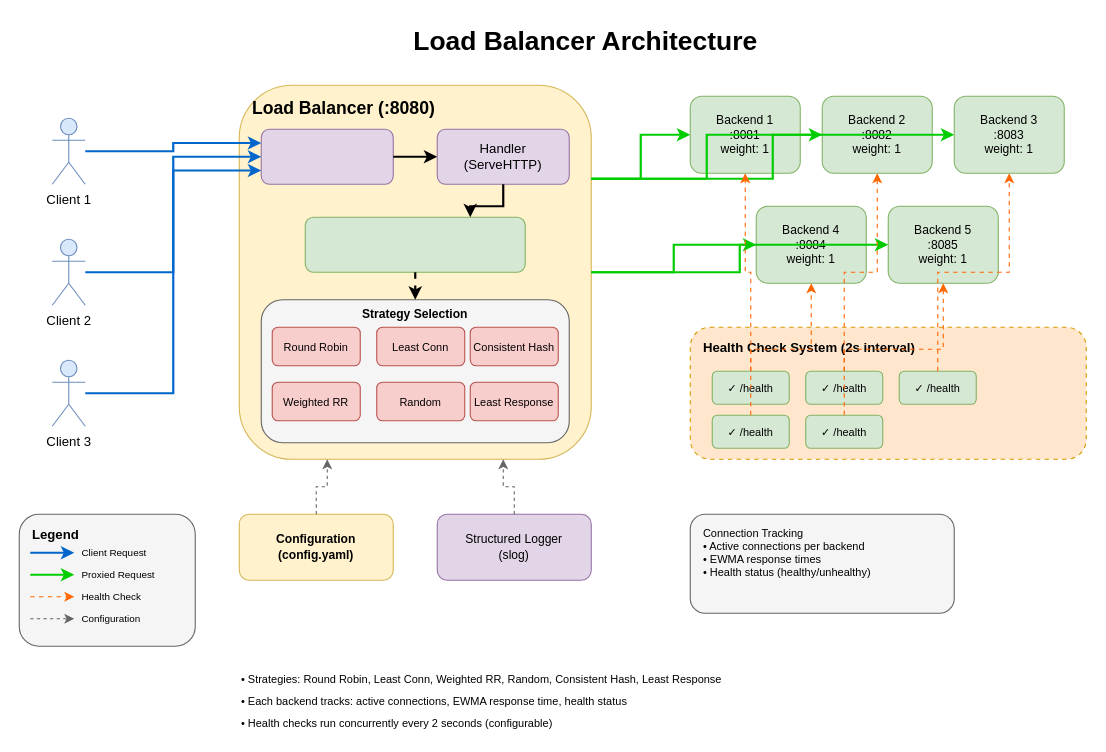
Some shapes in this 1106 by 752 pixel diagram are drawn without their labels. The shapes that lost their labels are listed below. From the top down, each one's centre as x and y in pixels, then its label:
At [326,156]: "HTTP Server (httpserver)".
At [414,244]: "LoadBalancer (GetAndReserveServer)".
